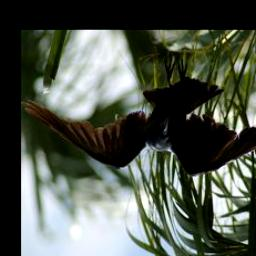Crow: (22, 58, 256, 179)
